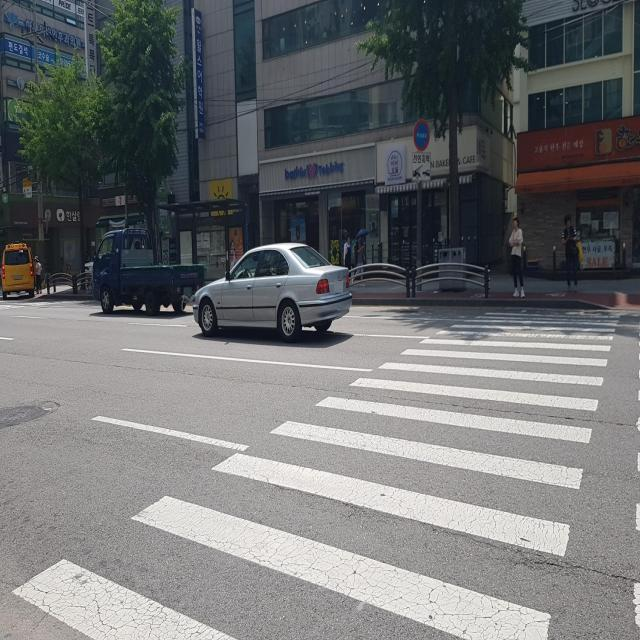횡단보도: (10, 307, 621, 640)
